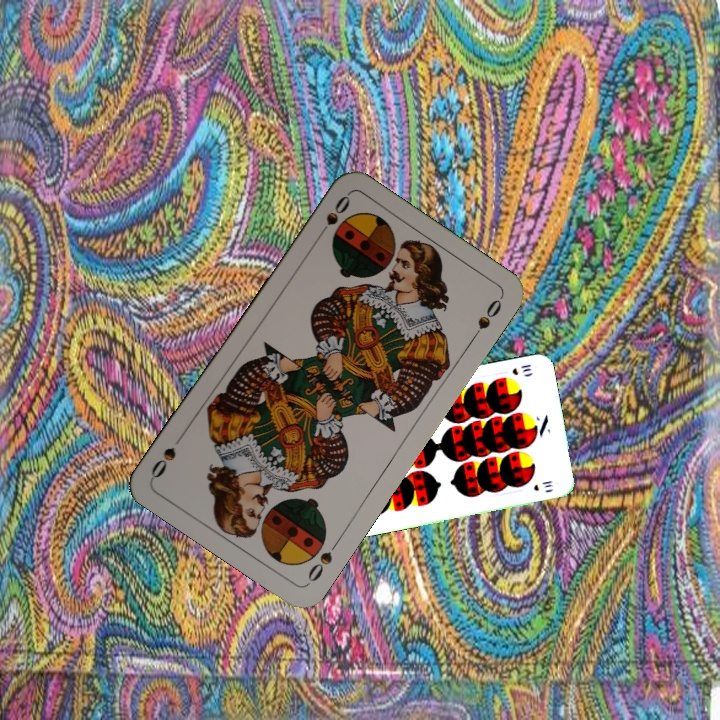S10: (508, 360, 534, 378)
SO: (312, 191, 353, 243), (303, 535, 343, 585)
